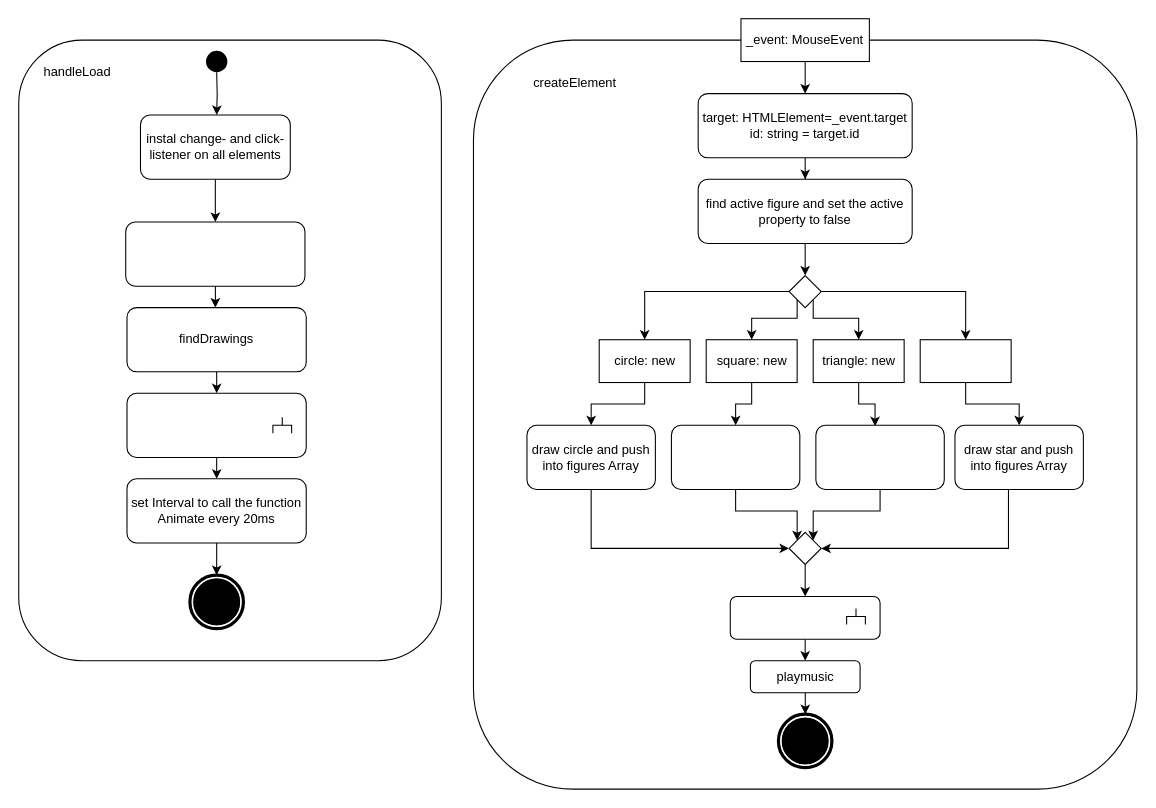
Some shapes in this 1156 by 808 pixel diagram are drawn without their labels. The box of each missing label's shape, as (x1, y1, x2, y2) in pixels:
createBackground: (126, 392, 306, 457)
draw square and push into figures Array: (670, 424, 800, 490)
draw triangle and push into figures Array: (815, 424, 944, 490)
set canvasWidth to 1050 and canvasHeight to 700: (125, 221, 305, 286)
star: new: (919, 339, 1011, 383)
updateList: (729, 595, 880, 639)
